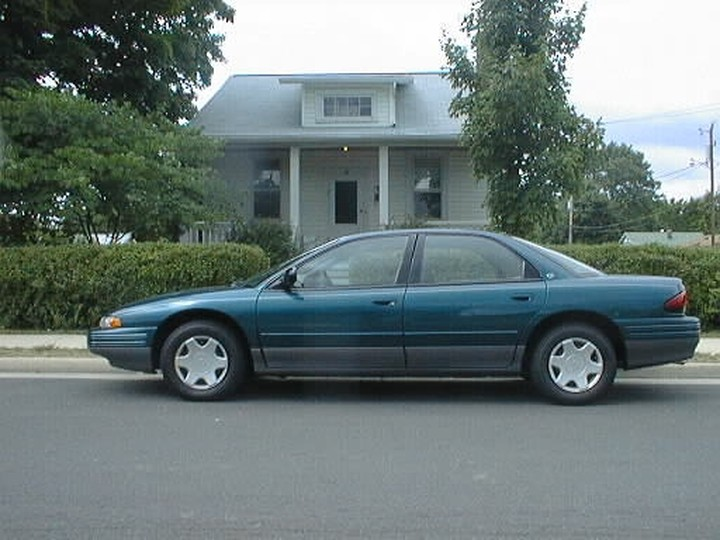car: (89, 233, 705, 407)
